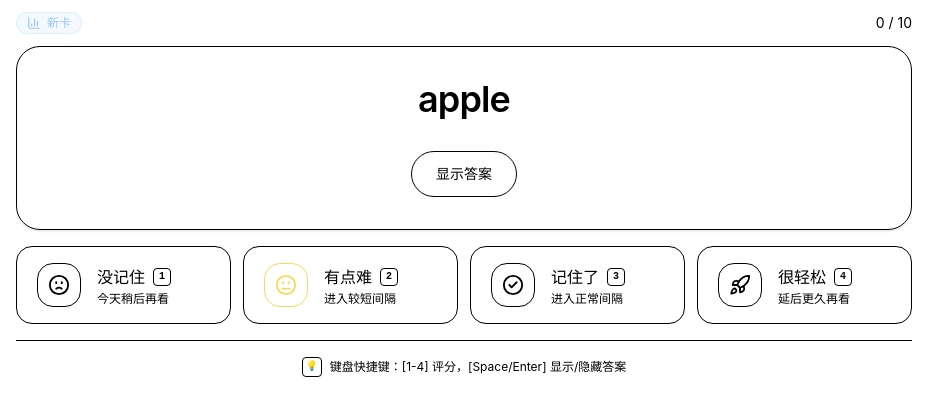
Test: FlashcardFocusTemplate › shows next review label briefly after a successful rating submit with nextDueAt
Click the button "记住了 3 进入正常间隔" at (578, 285), box [470,246,685,324]
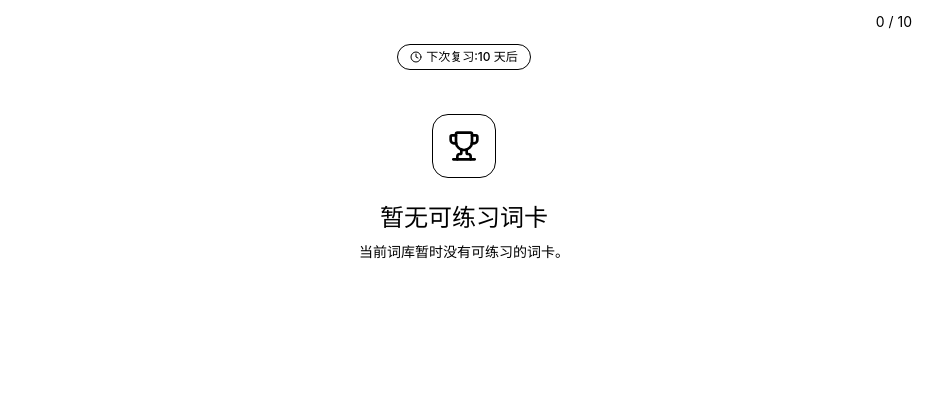
Now the text "下次复习:10 天后" is shown, box [397,44,531,70]
